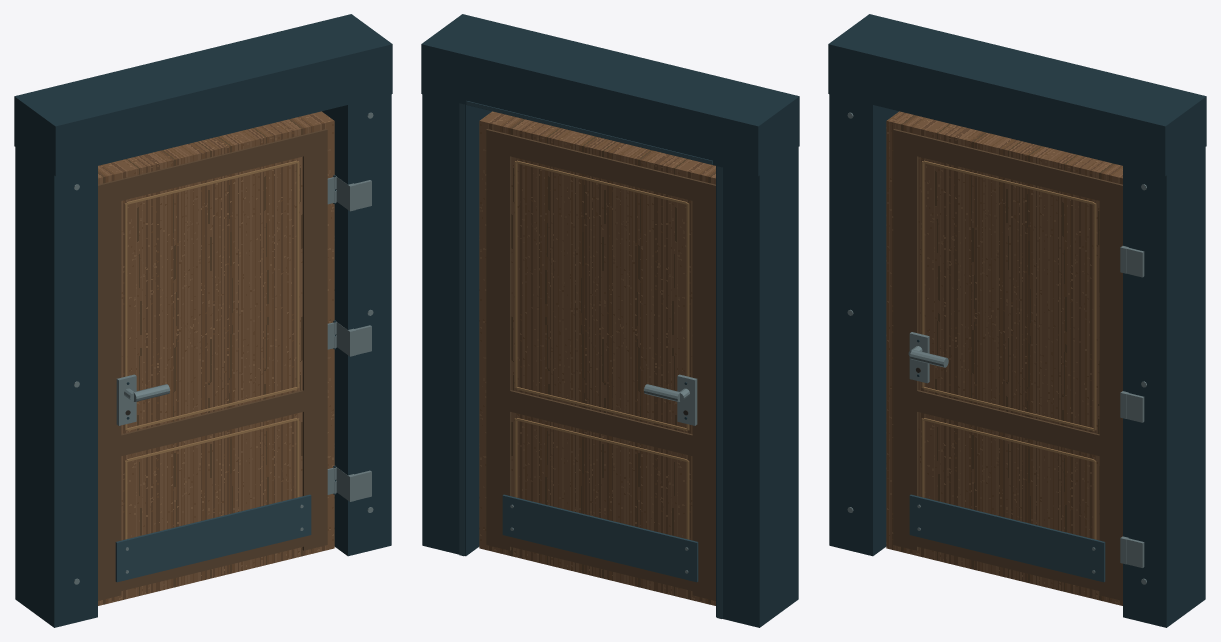
Rendered from school_door.glb.
3 views of the same model, side by side, from view 1: azimuth 30°, elevation 25°; view 2: azimuth 150°, elevation 25°; view 3: azimuth 330°, elevation 25° (orthographic).
Parts seen in each view (by area): view 1: b_deco_fire_door_leaf, Door fixed jamb 1, Door fixed lintel, Door fixed jamb -1, Leaf stile -1 0.10, Leaf stile -1 1.14, Door lower kick plate -1, Leaf cross rail -1 1.98, Leaf cross rail -1 0.75, Leaf cross rail -1 0.10, Fine panel edge -1 1.36 0.19, Door handle backplate -1 (+7 smaller); view 2: b_deco_fire_door_leaf, Door fixed jamb 1, Door fixed lintel, Door fixed jamb -1, Leaf stile 1 0.10, Leaf stile 1 1.14, Door lower kick plate 1, Leaf cross rail 1 1.98, Leaf cross rail 1 0.75, Door jamb fine edge -1, Door jamb fine edge 1, Leaf cross rail 1 0.10 (+7 smaller); view 3: b_deco_fire_door_leaf, Door fixed jamb -1, Door fixed lintel, Door fixed jamb 1, Leaf stile -1 1.14, Leaf stile -1 0.10, Door lower kick plate -1, Leaf cross rail -1 1.98, Leaf cross rail -1 0.75, Leaf cross rail -1 0.10, Fine panel edge -1 1.36 0.19, Door handle backplate -1 (+4 smaller).
Boxes of the visible parts, x1,y1,x2,y2 form: b_deco_fire_door_leaf: (98, 111, 334, 605); Door fixed jamb 1: (15, 147, 97, 627); Door fixed lintel: (14, 14, 392, 176); Door fixed jamb -1: (322, 94, 391, 556); Leaf stile -1 0.10: (302, 129, 327, 550); Leaf stile -1 1.14: (98, 179, 121, 600); Door lower kick plate -1: (115, 494, 311, 582); Leaf cross rail -1 1.98: (121, 135, 303, 200); Leaf cross rail -1 0.75: (121, 390, 303, 455); Leaf cross rail -1 0.10: (121, 537, 303, 590); Fine panel edge -1 1.36 0.19: (296, 161, 299, 388); Door handle backplate -1: (116, 374, 136, 425); b_deco_fire_door_leaf: (479, 111, 715, 605); Door fixed jamb 1: (716, 147, 798, 627); Door fixed lintel: (421, 14, 799, 176); Door fixed jamb -1: (422, 94, 491, 556); Leaf stile 1 0.10: (486, 129, 511, 550); Leaf stile 1 1.14: (692, 179, 715, 600); Door lower kick plate 1: (502, 494, 698, 582); Leaf cross rail 1 1.98: (510, 135, 692, 200); Leaf cross rail 1 0.75: (510, 390, 692, 455); Door jamb fine edge -1: (459, 103, 464, 556); Door jamb fine edge 1: (717, 166, 722, 618); Leaf cross rail 1 0.10: (510, 537, 692, 590); b_deco_fire_door_leaf: (886, 111, 1122, 605); Door fixed jamb -1: (1123, 122, 1205, 627); Door fixed lintel: (828, 14, 1206, 176); Door fixed jamb 1: (829, 94, 898, 556); Leaf stile -1 1.14: (893, 129, 918, 550); Leaf stile -1 0.10: (1099, 179, 1122, 600); Door lower kick plate -1: (909, 494, 1105, 582); Leaf cross rail -1 1.98: (917, 135, 1099, 200); Leaf cross rail -1 0.75: (917, 390, 1099, 455); Leaf cross rail -1 0.10: (917, 537, 1099, 590); Fine panel edge -1 1.36 0.19: (1093, 203, 1096, 430); Door handle backplate -1: (909, 332, 929, 383).
Bounding box in the file's own units: 1.7 × 2.42 × 0.375.
7 materials, 1 textured.
